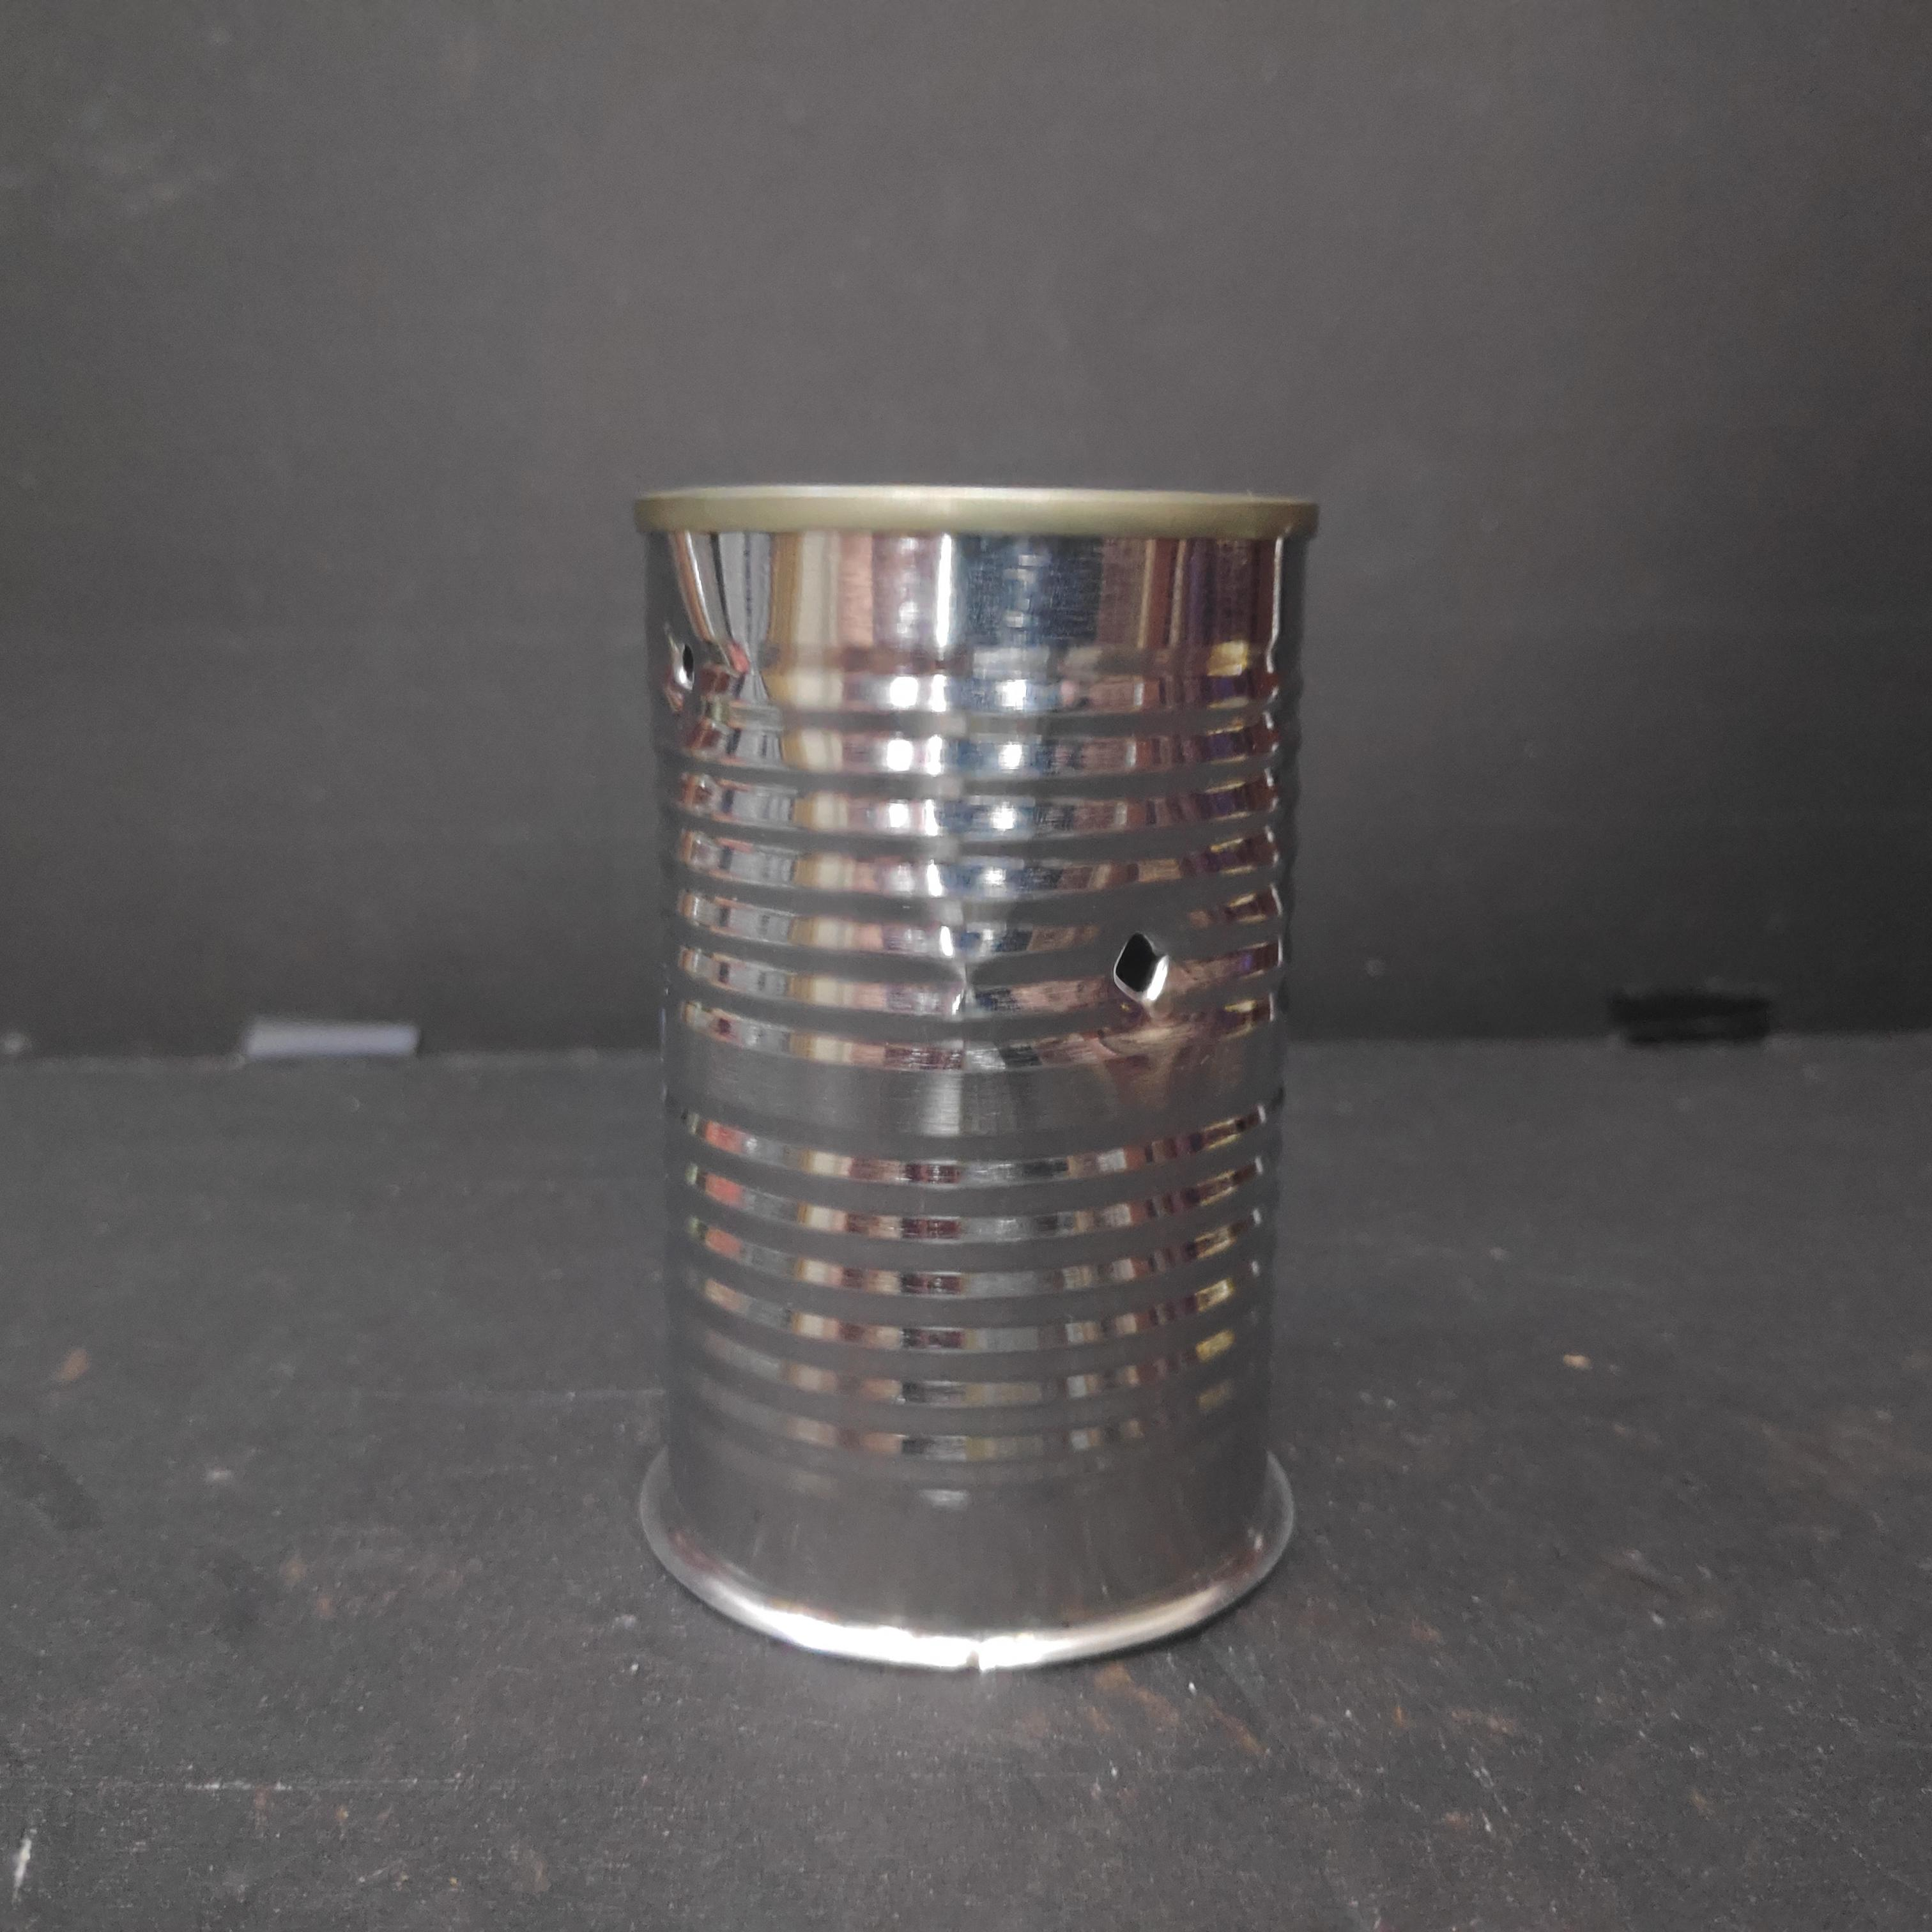Critical Defect: (630, 474, 1325, 1674)
